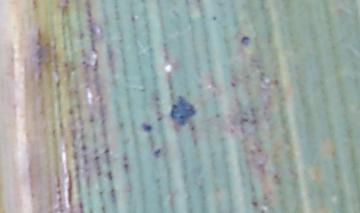tarspot: (168, 94, 197, 128), (139, 122, 153, 134), (239, 35, 251, 48), (152, 147, 161, 160), (229, 80, 237, 89), (211, 15, 217, 23)
